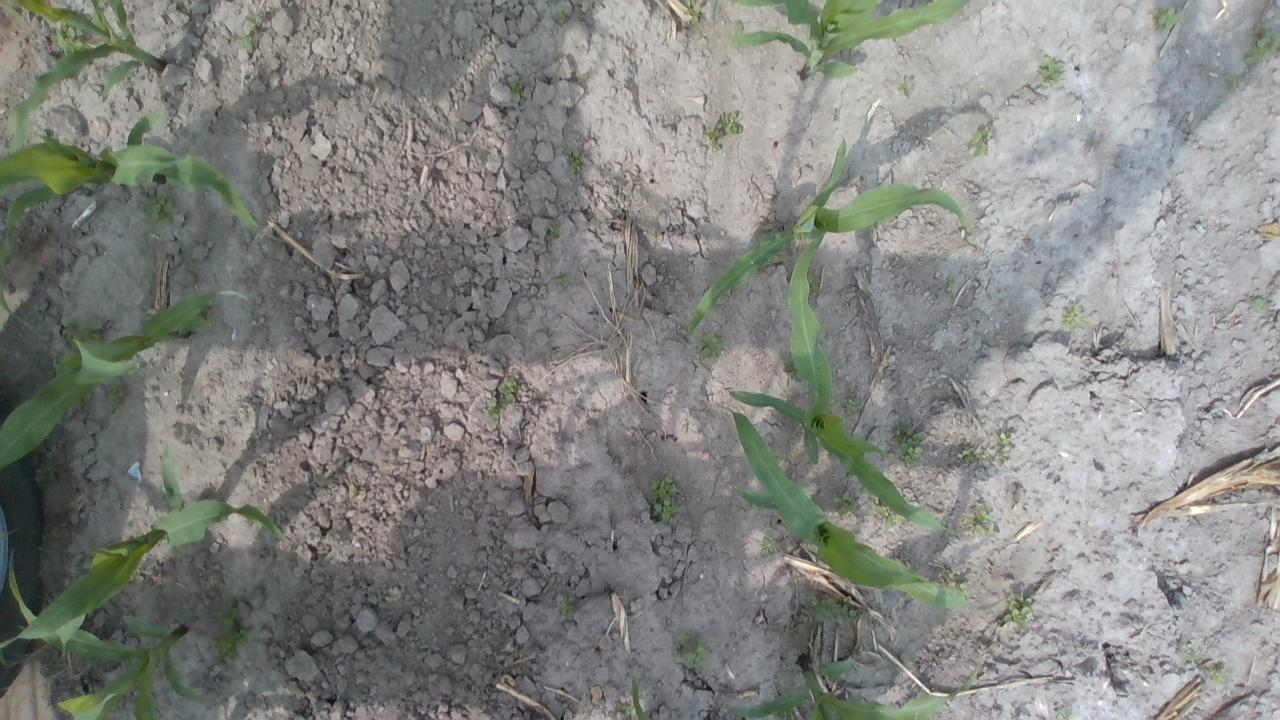Maize: (727, 219, 952, 541), (3, 445, 295, 652), (681, 137, 980, 336), (727, 411, 971, 616), (3, 288, 251, 470), (3, 110, 266, 267), (3, 548, 237, 716), (1, 3, 170, 154), (724, 1, 978, 82), (713, 651, 984, 717)
Weeds: (1178, 640, 1230, 690), (210, 602, 251, 664), (948, 428, 1012, 466), (60, 314, 106, 352), (481, 380, 516, 425), (650, 474, 681, 524), (891, 426, 928, 467), (672, 630, 709, 666), (1244, 30, 1280, 66), (809, 598, 855, 626), (617, 679, 650, 716), (56, 18, 84, 58), (708, 114, 740, 146), (144, 192, 176, 224), (1004, 594, 1032, 624), (684, 1, 711, 32), (969, 506, 994, 538), (938, 570, 970, 594), (106, 373, 128, 406), (1042, 54, 1064, 84), (244, 16, 262, 52), (556, 590, 578, 619), (1062, 304, 1086, 330), (701, 333, 720, 362), (508, 76, 528, 103), (1155, 9, 1181, 29), (971, 129, 990, 155), (834, 496, 861, 514), (567, 151, 585, 174), (880, 503, 897, 526), (1222, 75, 1240, 96), (1056, 706, 1082, 720), (552, 7, 570, 26), (846, 398, 860, 416), (546, 222, 560, 240), (1251, 296, 1264, 314), (762, 538, 774, 556), (900, 77, 915, 91), (556, 272, 568, 286)
